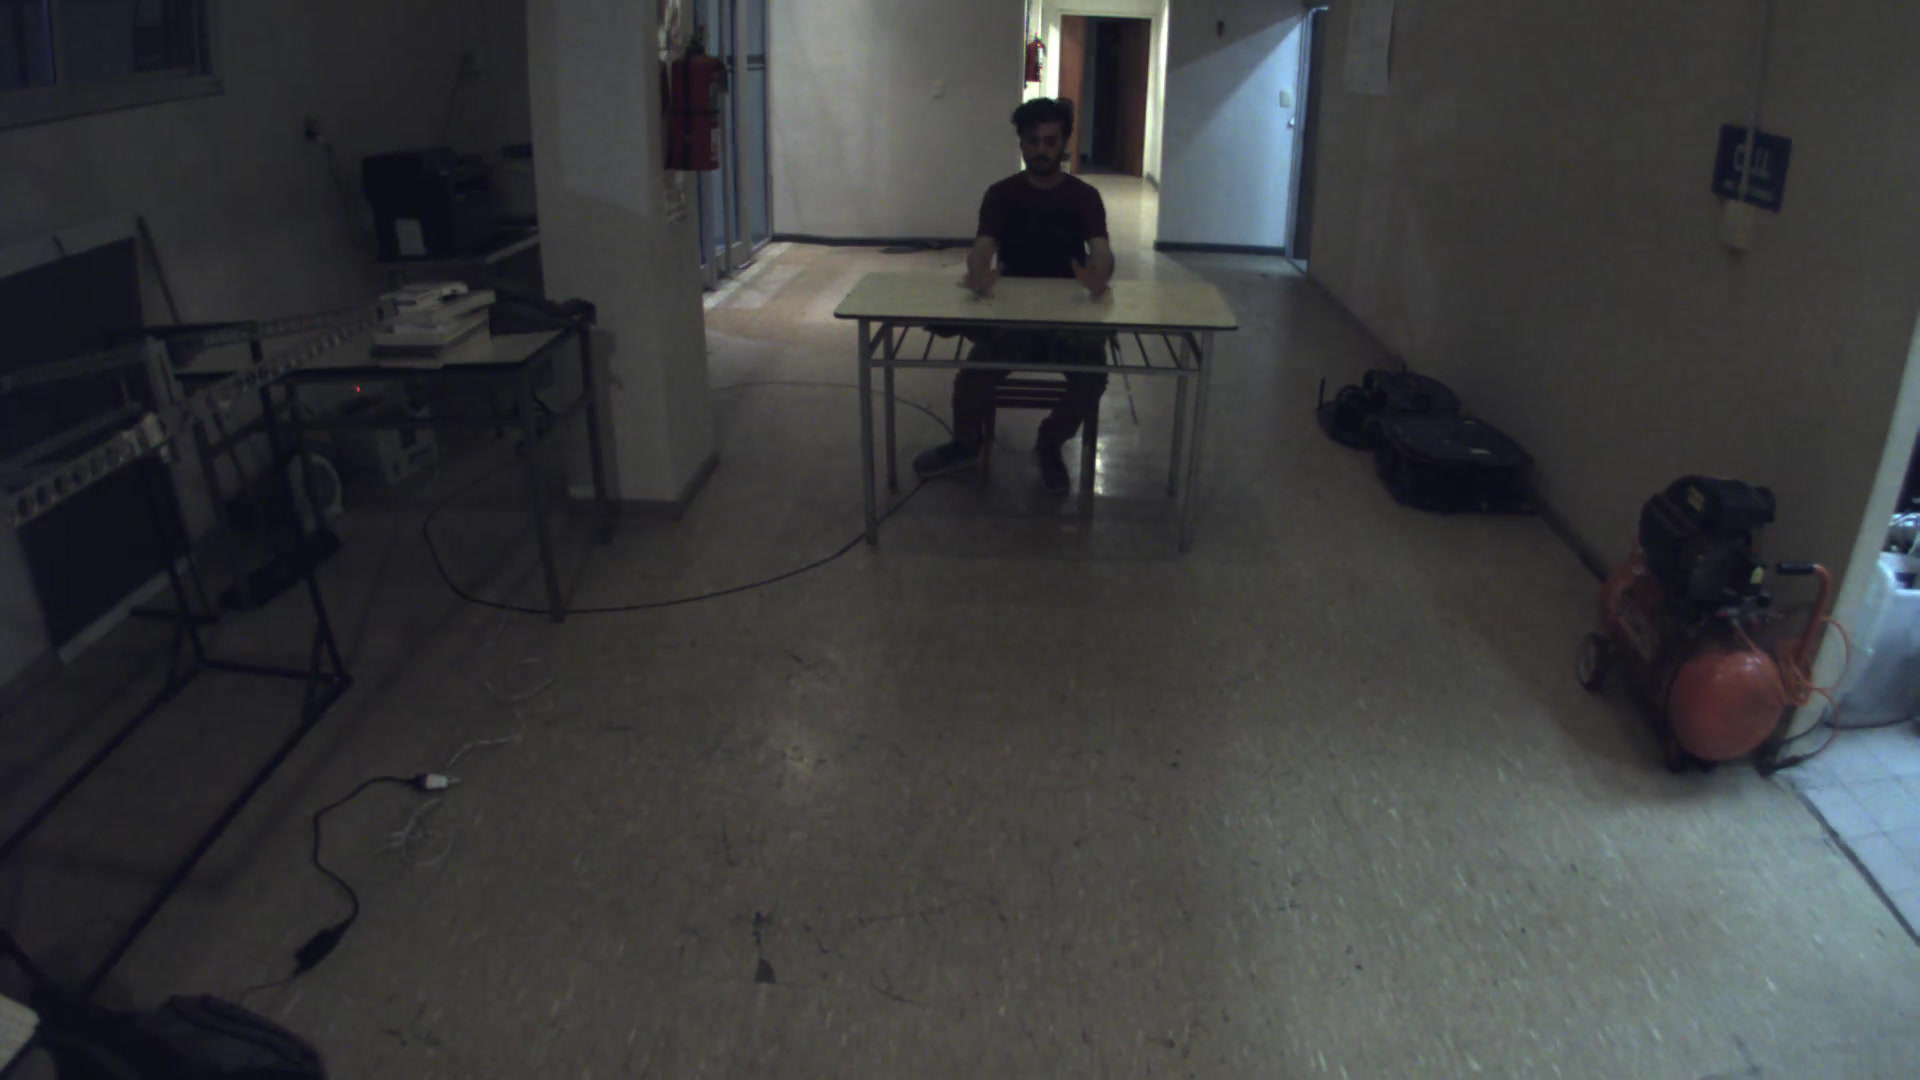hand: (1067, 235, 1122, 303), (952, 237, 1007, 302)
